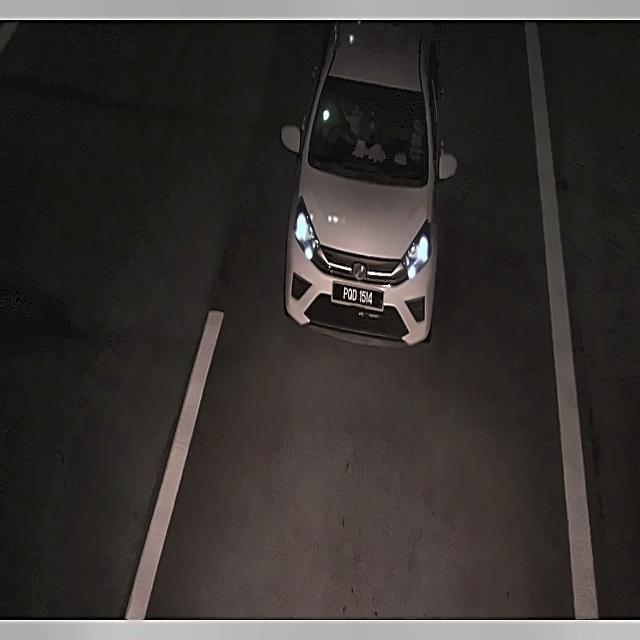car: (328, 278, 395, 318)
